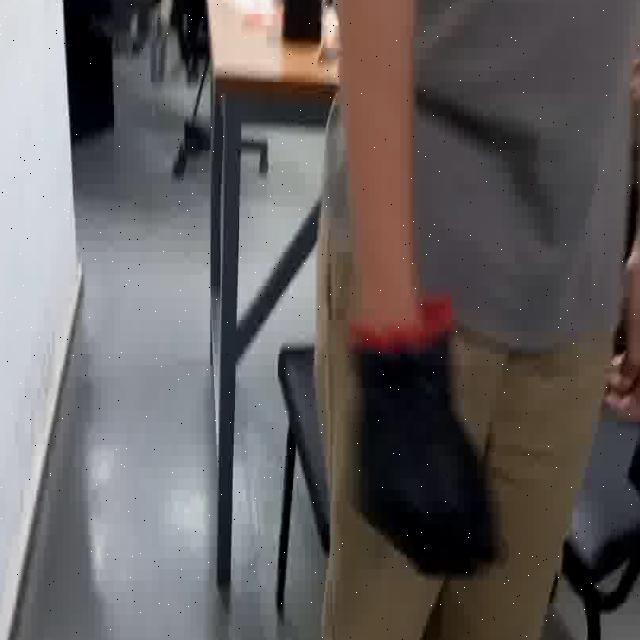Gloves: (339, 285, 513, 578)
